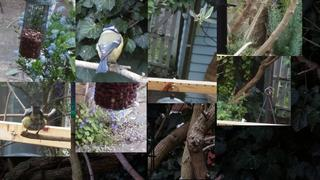blue tit: (95, 24, 124, 73), (21, 106, 47, 139)
